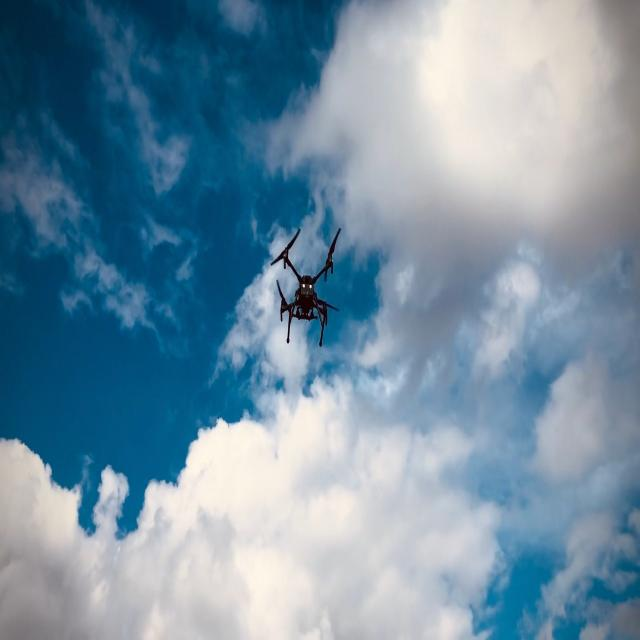drone: (270, 225, 341, 347)
